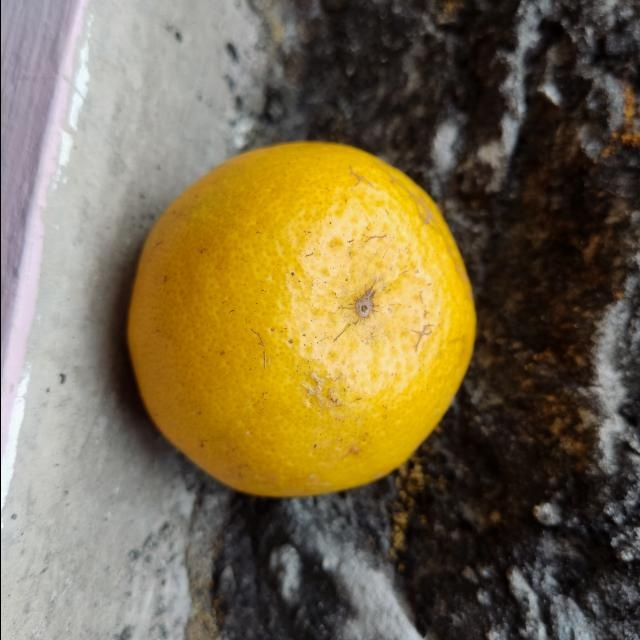agrume: (124, 138, 480, 500)
